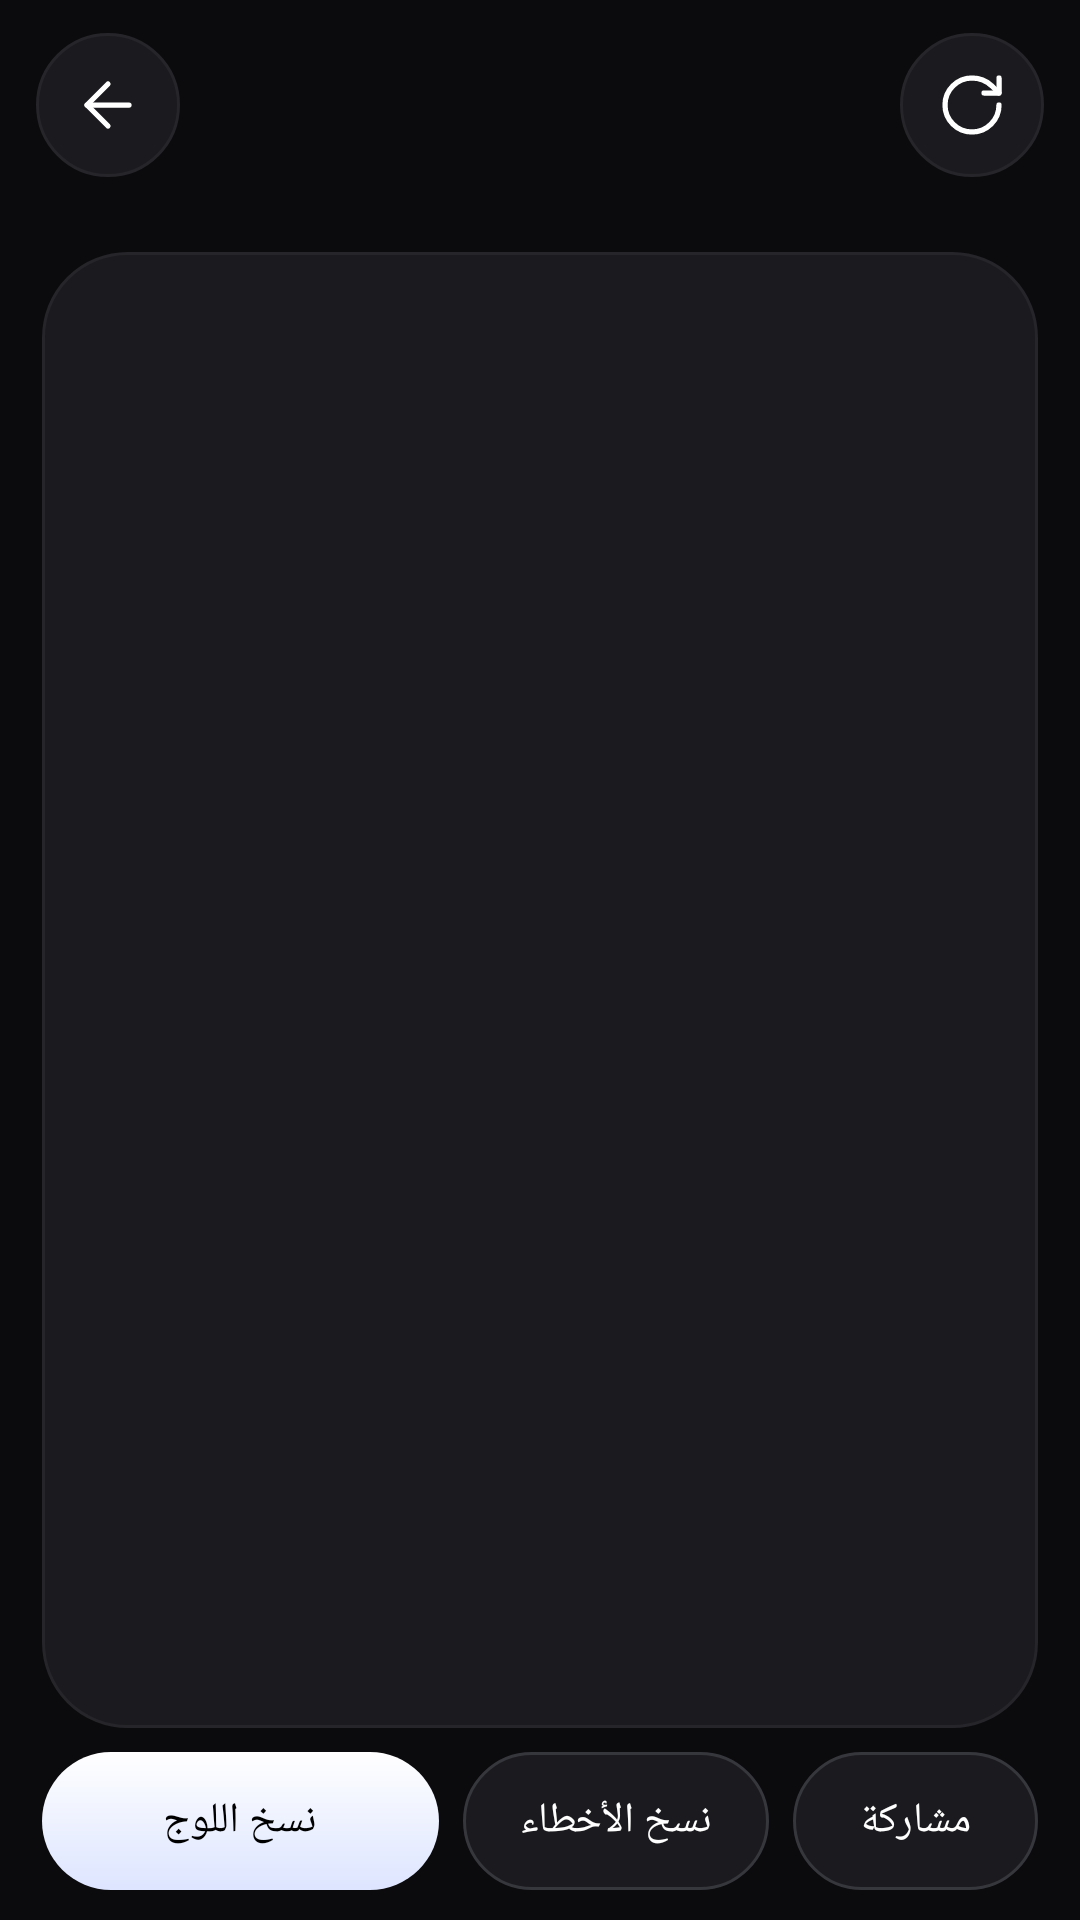

Screen size 1080x1920. Icon name, then its center in pixels as point (x, y):
تحديث: point (972, 105)
رجوع: point (108, 105)
